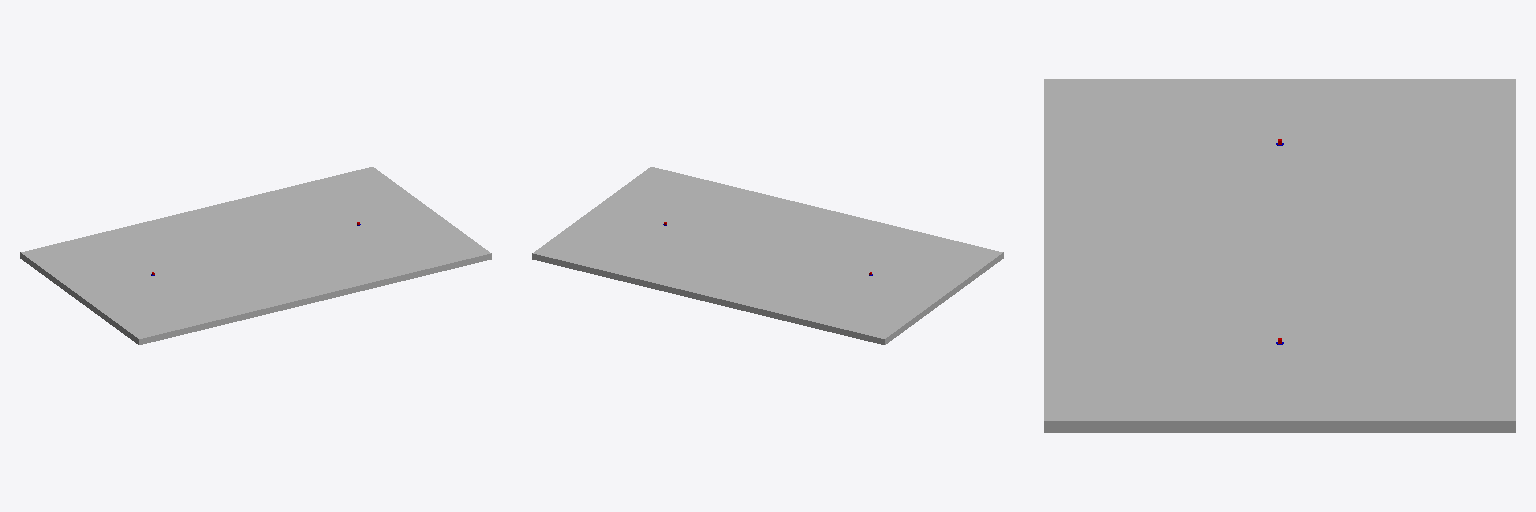
robot.urdf — my_cam:
<?xml version="1.0" ?>
<robot name="my_cam" >

    <!-- Specify material colors here -->
    <material name="blue">
        <color rgba="0 0 0.8 1"/>
    </material>
    <material name="red">
        <color rgba="0.8 0 0 1"/>
    </material>
    <material name="grey">
        <color rgba="0.75 0.75 0.75 1"/>
    </material>

    <!-- Gazebo plugin initialization -->
    <gazebo>
        <plugin name="gazebo_ros_control" filename="libgazebo_ros_control.so">
            <robotNamespace>/my_cam</robotNamespace> This robot name is the same as robot name at the top
        </plugin>
    </gazebo>
   
                <!-- ////////////////////////// === BASE LINKS ==== //////////////////////////////////// -->


   <!-- Circular base link -->
    <link name="base_link">
        <visual>
        <origin rpy="0 0 0" xyz="0 0 0"/>
        <geometry>
            <cylinder radius="0.06" length="0.01"/>
        </geometry>
        <material name = "blue"/>
        </visual>

        <collision>
        <origin xyz="0 0 0" rpy="0 0 0"/>
        <geometry>
            <cylinder radius="0.06" length="0.01"/>
        </geometry>
        </collision>
    </link>

    This is for color and physical properties in Gazebo, color won't work with the material tag in gazebo
    only for URDF coloring
    <gazebo reference="base_link">
        <mu1>10.0</mu1>
        <mu2>10.0</mu2>
        <material>Gazebo/Blue</material>
    </gazebo>

    <!-- Circular base link 2 -->
     <link name="base_link_2">
        <visual>
        <origin rpy="0 0 0" xyz="0 0 0"/>
        <geometry>
            <cylinder radius="0.06" length="0.01"/>
        </geometry>
        <material name = "blue"/>
        </visual>

        <collision>
        <origin xyz="0 0 0" rpy="0 0 0"/>
        <geometry>
            <cylinder radius="0.06" length="0.01"/>
        </geometry>
        </collision>
    </link>
 
    <gazebo reference="base_link_2">
        <mu1>10.0</mu1>
        <mu2>10.0</mu2>
        <material>Gazebo/Blue</material>
    </gazebo>


     <!-- ////////////////////////// === CEILING LINK ==== //////////////////////////////////// -->


    <!-- Ceiling link -->
    <link name="ceiling_link">
        <collision>
        <origin xyz="0 0 -0.2" rpy="0 0 0"/>
        <geometry>
            <box size="12 7 0.2"/>
        </geometry>
        </collision>

        <visual>
        <origin xyz="0 0 -0.2" rpy="0 0 0"/> because the thickness is 0.2
        <geometry>
            <box size="12 7 0.2"/>
        </geometry>
        <material name="grey"/>
        </visual>

        <inertial>
        <mass value="50" /> 
        <origin xyz="0 0 -0.2" rpy="0 0 0"/> Inertia was calculated from the inertial calculator program
        <inertia ixx="150.16666666666669" ixy="0" ixz="0" iyy="337.66666666666674" iyz="0" izz="487.50000000000006" />
        </inertial>
    </link>
    <gazebo reference="ceiling_link">
        <mu1>10.0</mu1>
        <mu2>10.0</mu2>
        <material>Gazebo/DarkGrey</material>
    </gazebo>



        <!-- ////////////////////////// === CAMERA LINKS ==== //////////////////////////////////// -->


    <!-- Camera Link 1-->
    <link name="camera_link_1">
        <collision>
        <origin xyz="0 0 0" rpy="0 0 0"/>
        <geometry>
            <box size="0.07 0.07 0.07"/>
        </geometry>
        </collision>

        <visual>
        <origin xyz="0 0 0" rpy="0 0 0"/>
        <geometry>
            <box size="0.07 0.07 0.07"/>
        </geometry>
        <material name="red"/>
        </visual>

        <inertial>
        <mass value="0.25" /> This camera was estimated from the mass(weight) of a logitech camera = 0.25kg
        <origin xyz="0 0 0" rpy="0 0 0"/> Inertia was calculated from the inertial calculator program
        <inertia ixx="0.00020416666666666668" ixy="0" ixz="0" iyy="0.00020416666666666668" iyz="0" izz="0.00020416666666666668" />
        </inertial>
    </link>

    <gazebo reference="camera_link_1">
        <mu1>10.0</mu1>
        <mu2>10.0</mu2>
        <material>Gazebo/Red</material>
    </gazebo>

    <!-- Camera Link 2-->
    <link name="camera_link_2">
        <collision>
        <origin xyz="0 0 0" rpy="0 0 0"/>
        <geometry>
            <box size="0.07 0.07 0.07"/>
        </geometry>
        </collision>

        <visual>
        <origin xyz="0 0 0" rpy="0 0 0"/>
        <geometry>
            <box size="0.07 0.07 0.07"/>
        </geometry>
        <material name="red"/>
        </visual>

        <inertial>
        <mass value="0.25" /> This camera was estimated from the mass(weight) of a logitech camera = 0.25kg
        <origin xyz="0 0 0" rpy="0 0 0"/> Inertia was calculated from the inertial calculator program
        <inertia ixx="0.00020416666666666668" ixy="0" ixz="0" iyy="0.00020416666666666668" iyz="0" izz="0.00020416666666666668" />
        </inertial>
    </link>

    <gazebo reference="camera_link_2">
        <mu1>10.0</mu1>
        <mu2>10.0</mu2>
        <material>Gazebo/Red</material>
    </gazebo>





            <!-- ////////////////////////// === Joints ==== //////////////////////////////////// -->



    <!-- joint = base_link to camera_link -->       camera 1
    <joint name="camera_joint_1" type="fixed">
        <origin xyz="0 0 0.04" rpy="0 0 0"/> Z = 0.04 gave the best joint look
        <parent link="base_link"/>
        <child link="camera_link_1"/>
    </joint>


    <!-- joint = base_link to ceiling_link -->        camera 1
    <joint name="ceiling_cam1_joint" type="fixed">
        <origin xyz="-3.5 0 0" rpy="0 0 0"/> "-2" to move the opposite side of the ceiling
        <parent link="ceiling_link"/>
        <child link="base_link"/>
    </joint>
    <!-- ///////////////////////////////////////////////////////////////////////////////////////////////////////// -->
    <!-- joint = base_link to camera_link -->       camera 2
    <joint name="camera_joint_2" type="fixed">
        <origin xyz="0 0 0.04" rpy="0 0 0"/> Z = 0.04 gave the best joint look
        <parent link="base_link_2"/>
        <child link="camera_link_2"/>
    </joint>


    <!-- joint = base_link to ceiling_link -->        camera 2
    <joint name="ceiling_cam2_joint" type="fixed">
        <origin xyz="3.5 0 0" rpy="0 0 0"/> "2" to move the opposite side of the ceiling
        <parent link="ceiling_link"/>
        <child link="base_link_2"/>
    </joint>




    <!-- Gazebo Camera plugin 1-->
    <gazebo reference="camera_link_1">
        <sensor type="camera" name="camera1">
            <update_rate>30.0</update_rate>
            <camera name="head">
            <pose>0 0 0 0 -1.57 0 </pose>
                <horizontal_fov>1.3962634</horizontal_fov>
                <image>
                    <width>1920</width>
                    <height>1080</height>
                    <format>R8G8B8</format>
                </image>
                <clip>
                    <near>0.02</near>
                    <far>300</far>
                </clip>
                <noise>
                    <type>gaussian</type>
                    <!-- Noise is sampled independently per pixel on each frame.
                        That pixel's noise value is added to each of its color
                        channels, which at that point lie in the range [0,1]. -->
                    <mean>0.0</mean>
                    <stddev>0.007</stddev>
                </noise>
            </camera>
            <plugin name="camera_controller" filename="libgazebo_ros_camera.so">
                <alwaysOn>true</alwaysOn>
                <updateRate>0.0</updateRate>
                <cameraName>my_cam/camera1</cameraName>
                <imageTopicName>image_raw</imageTopicName>
                <cameraInfoTopicName>camera_info</cameraInfoTopicName>
                <frameName>camera_link</frameName>
                <hackBaseline>0.07</hackBaseline>
                <distortionK1>0.0</distortionK1>
                <distortionK2>0.0</distortionK2>
                <distortionK3>0.0</distortionK3>
                <distortionT1>0.0</distortionT1>
                <distortionT2>0.0</distortionT2>
            </plugin>
        </sensor>
    </gazebo>

     <!-- Gazebo Camera plugin  2-->
     <gazebo reference="camera_link_2">
        <sensor type="camera" name="camera2">
            <update_rate>30.0</update_rate>
            <camera name="head">
            <pose>0 0 0 0 -1.57 0</pose>    point camera 180 degrees upward
                <horizontal_fov>1.3962634</horizontal_fov>
                <image>
                    <width>1920</width>
                    <height>1080</height>
                    <format>R8G8B8</format>
                </image>
                <clip>
                    <near>0.02</near>
                    <far>300</far>
                </clip>
                <noise>
                    <type>gaussian</type>
                    <!-- Noise is sampled independently per pixel on each frame.
                        That pixel's noise value is added to each of its color
                        channels, which at that point lie in the range [0,1]. -->
                    <mean>0.0</mean>
                    <stddev>0.007</stddev>
                </noise>
            </camera>
            <plugin name="camera_controller" filename="libgazebo_ros_camera.so">
                <alwaysOn>true</alwaysOn>
                <updateRate>0.0</updateRate>
                <cameraName>my_cam/camera2</cameraName>   change the name
                <imageTopicName>image_raw</imageTopicName>
                <cameraInfoTopicName>camera_info</cameraInfoTopicName>
                <frameName>camera_link</frameName>
                <hackBaseline>0.07</hackBaseline>
                <distortionK1>0.0</distortionK1>
                <distortionK2>0.0</distortionK2>
                <distortionK3>0.0</distortionK3>
                <distortionT1>0.0</distortionT1>
                <distortionT2>0.0</distortionT2>
            </plugin>
        </sensor>
    </gazebo>
    
</robot>

--- Render facts (derived) ---
3 views of the same robot in one strip: view 1: azimuth 30°, elevation 25°; view 2: azimuth 150°, elevation 25°; view 3: azimuth 270°, elevation 25° (orthographic).
Model my_cam with 5 links and 4 joints (4 fixed), rooted at ceiling_link, posed every joint at zero.
Links seen in each view (by area): view 1: ceiling_link; view 2: ceiling_link; view 3: ceiling_link.
Boxes of the visible links, bbox=[...] form: ceiling_link: bbox=[20, 167, 491, 344]; ceiling_link: bbox=[532, 167, 1003, 344]; ceiling_link: bbox=[1044, 79, 1515, 432].
Size in the robot's own frame: 12 by 7 by 0.375 metres.
Geometry: primitives only (box / cylinder / sphere), no mesh files.
